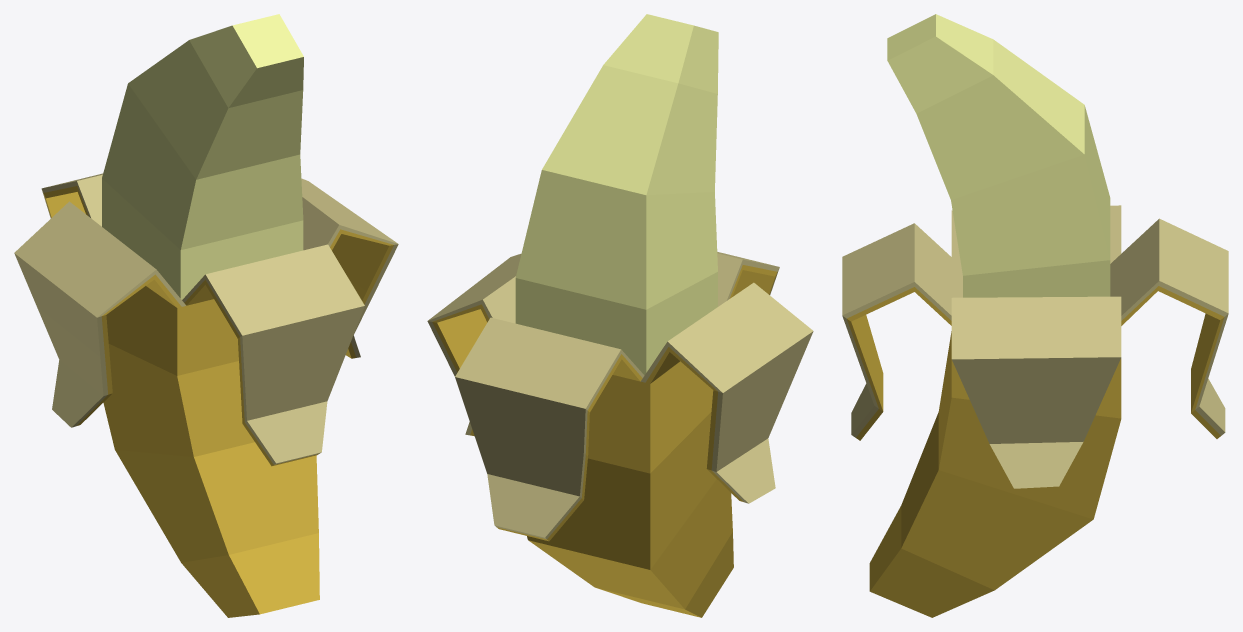
The model's file is banana.fbx.
The picture shows the model from 3 angles, left to right: view 1: azimuth 30°, elevation 25°; view 2: azimuth 150°, elevation 25°; view 3: azimuth 270°, elevation 25°; orthographic projection. The views are drawn at different scales.
Visible parts, largest first — view 1: Cube; view 2: Cube; view 3: Cube.
Part boxes in pixels (box(x1,y1,x2,y2)): Cube: box(14, 14, 398, 617); Cube: box(427, 14, 813, 617); Cube: box(842, 14, 1228, 617).
Size of the model in its own units: 464 by 866 by 525.
